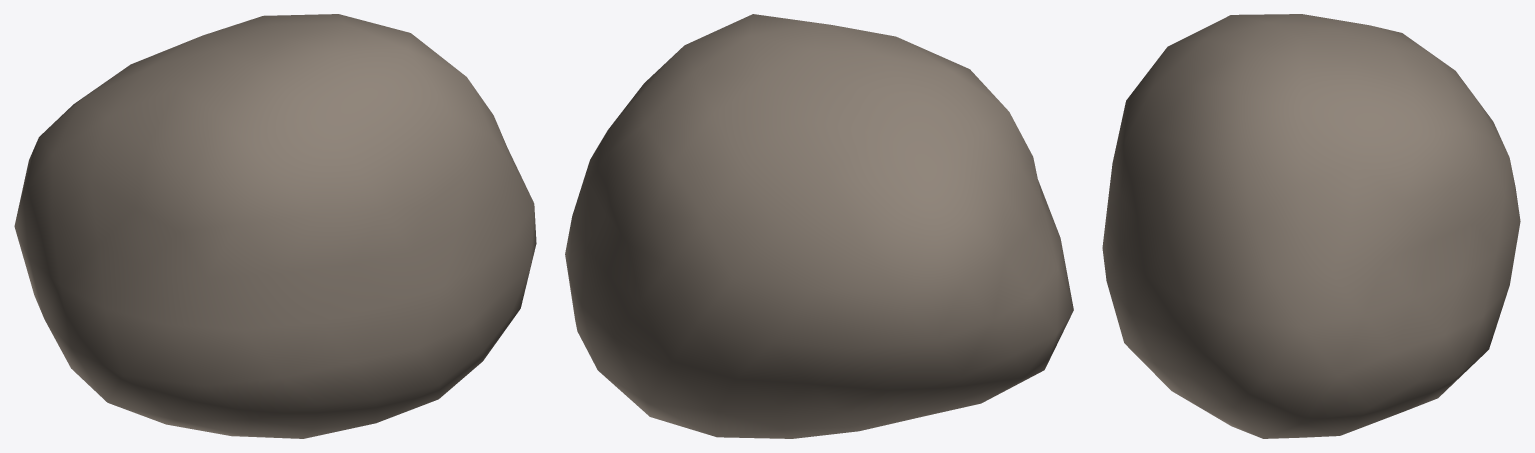
Rendered from sp_asteroid.glb.
3 views of the same model, side by side, from view 1: azimuth 30°, elevation 25°; view 2: azimuth 150°, elevation 25°; view 3: azimuth 270°, elevation 25° (orthographic). The views are drawn at different scales.
Visible parts, largest first — view 1: Icosphere; view 2: Icosphere; view 3: Icosphere.
Boxes of the visible parts, x1,y1,x2,y2 form: Icosphere: (14,14,536,438); Icosphere: (565,14,1073,438); Icosphere: (1102,14,1520,438).
Size of the model in its own units: 1.08 by 0.8431 by 0.8997.
